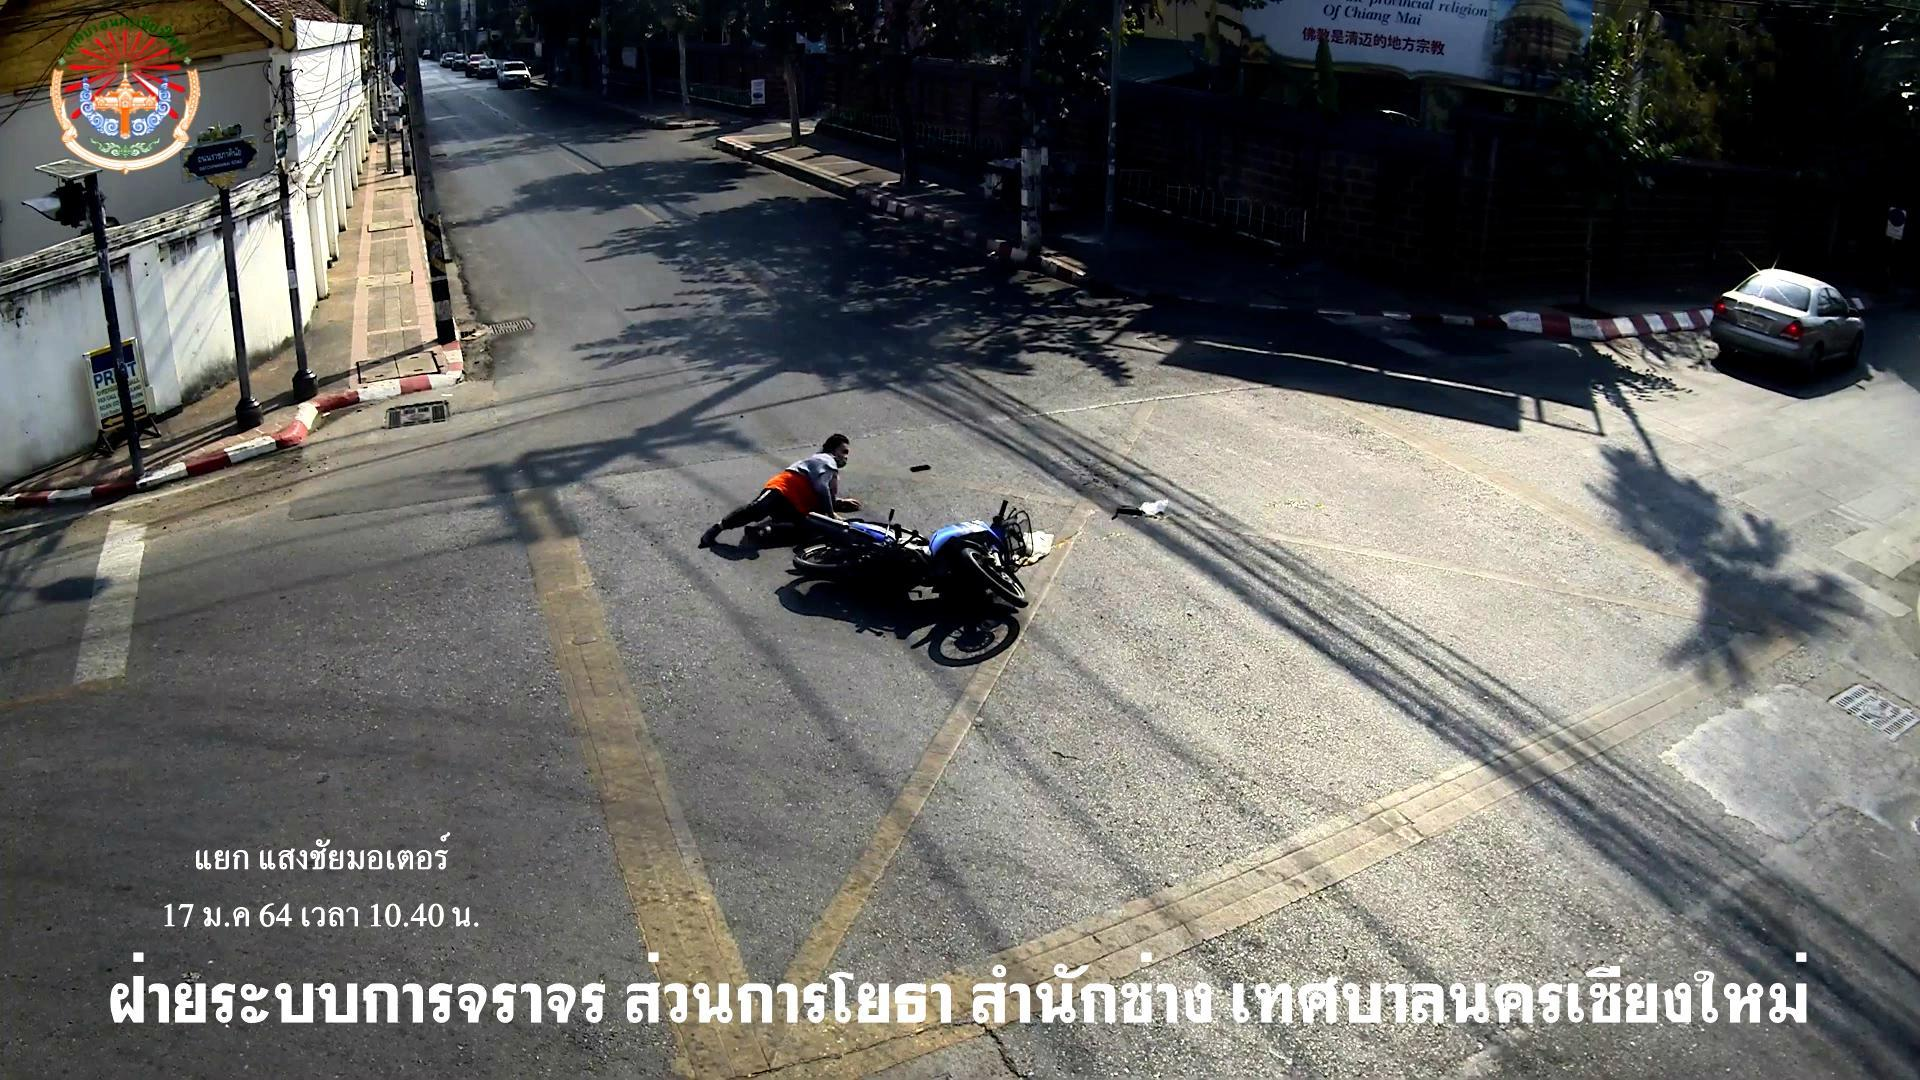accident: (695, 431, 856, 563)
